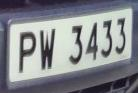3: (67, 20, 86, 69), (100, 15, 115, 63), (114, 15, 129, 60)
4: (84, 16, 101, 67)
P: (17, 27, 39, 77)
W: (37, 25, 58, 74)
